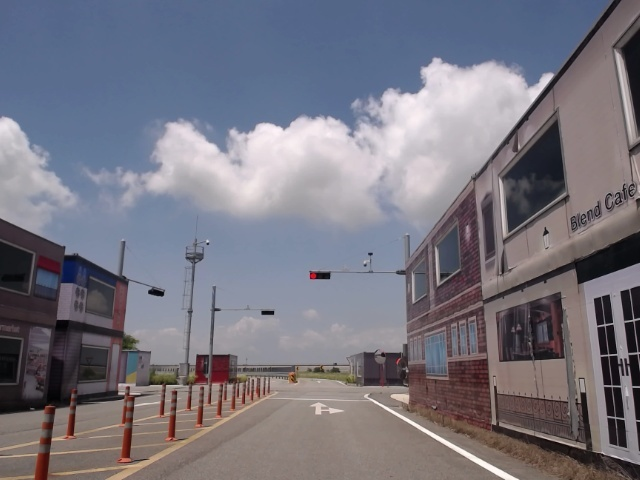red_3: (308, 271, 333, 281)
